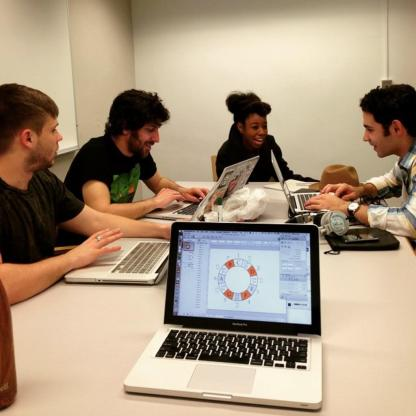board: (124, 218, 335, 408), (61, 180, 221, 286), (141, 156, 262, 218), (271, 149, 335, 218)
